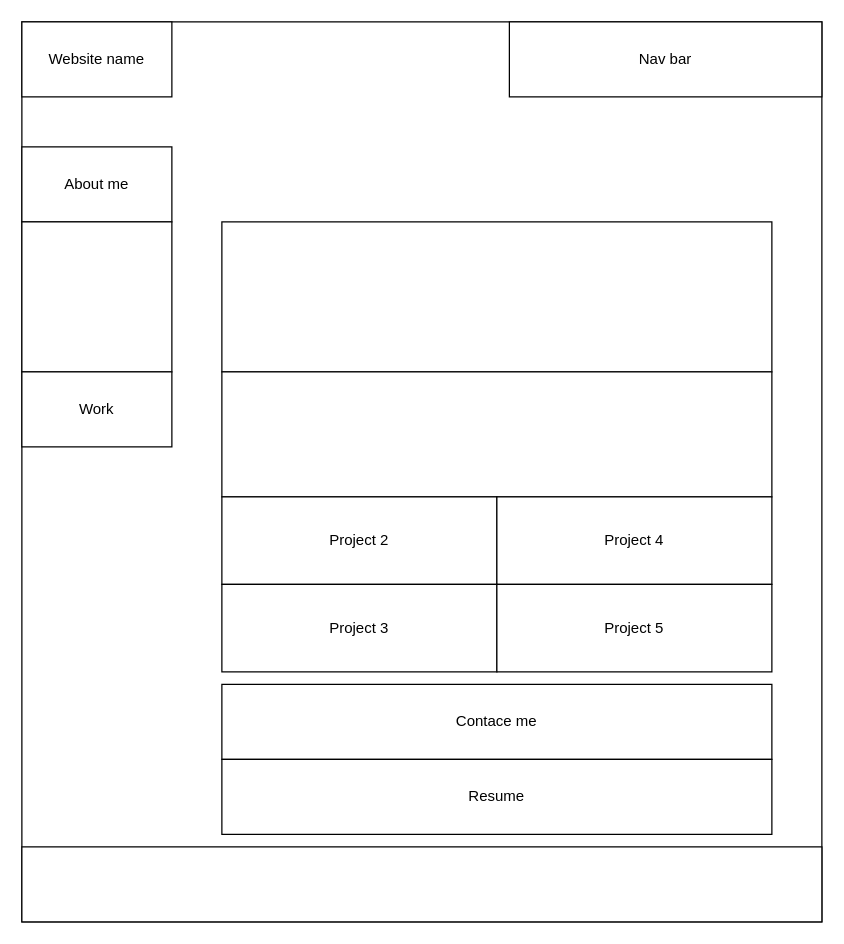
This 844x944 diagram has some shape labels left out. Here are the shapes that lost their labels. From the top down, the box of each, then its label:
(21, 221, 172, 372): Image
(221, 221, 772, 372): Brief explanation about me
(221, 371, 772, 497): Project 1
(21, 846, 822, 922): Footer
